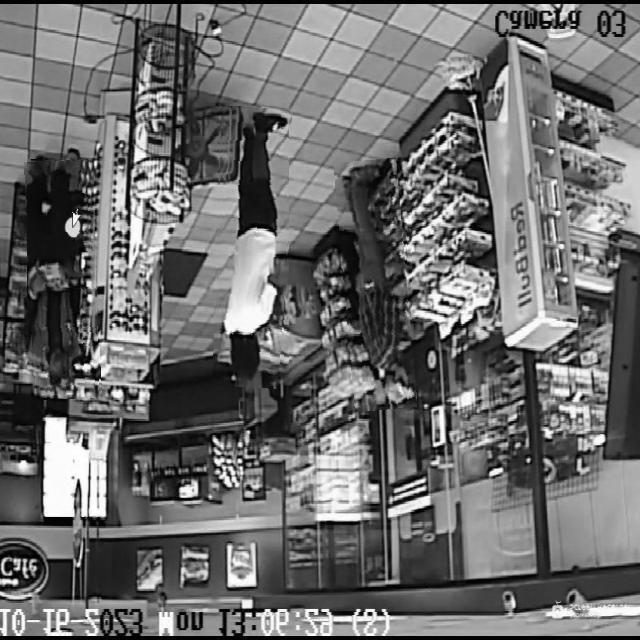Normal: (215, 106, 289, 388), (339, 159, 412, 411), (27, 159, 99, 399)
